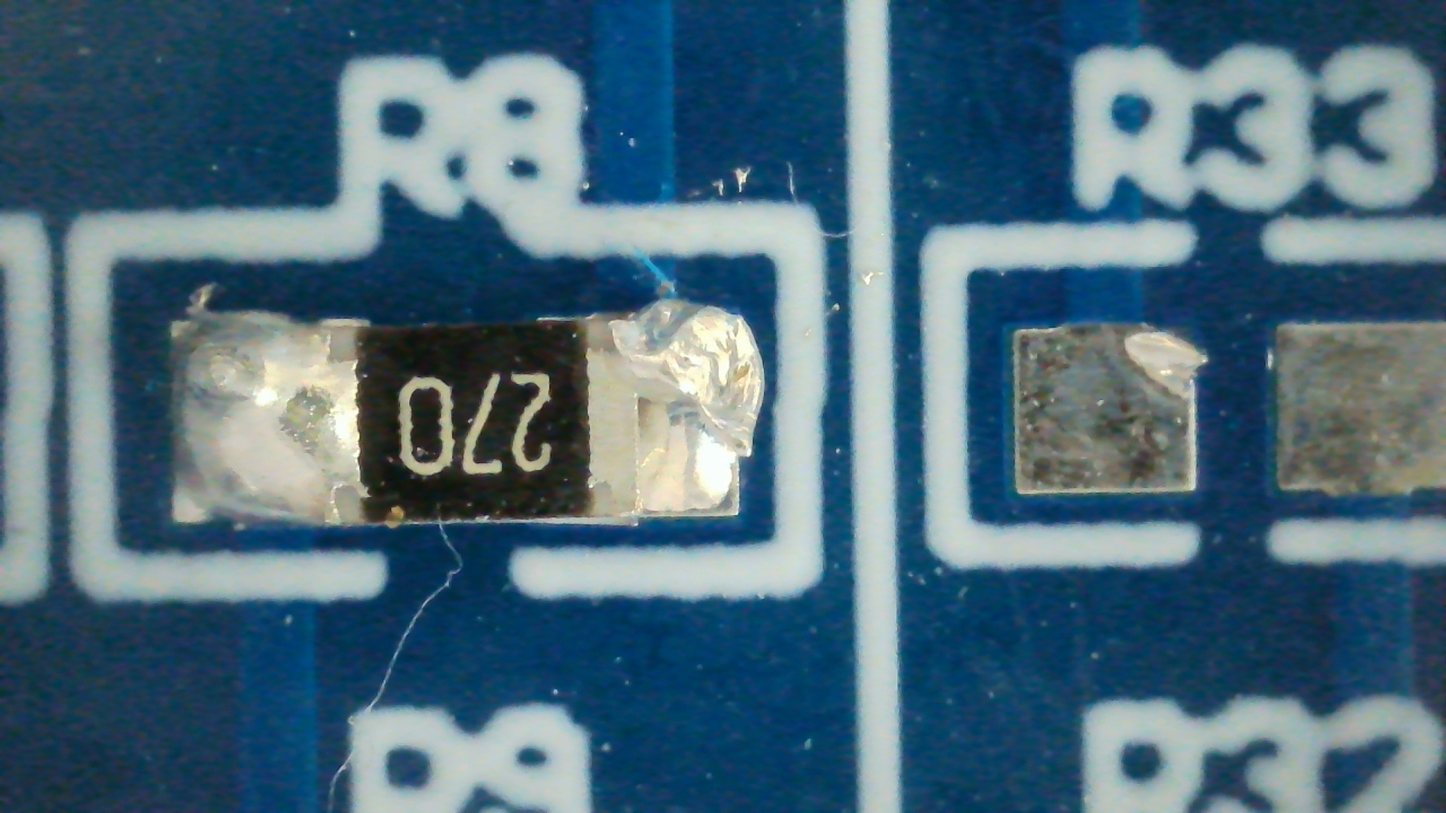OK: (169, 314, 736, 524)
